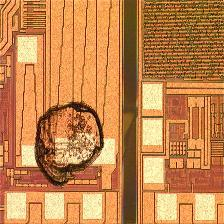PARTICLE: (33, 101, 107, 190)
